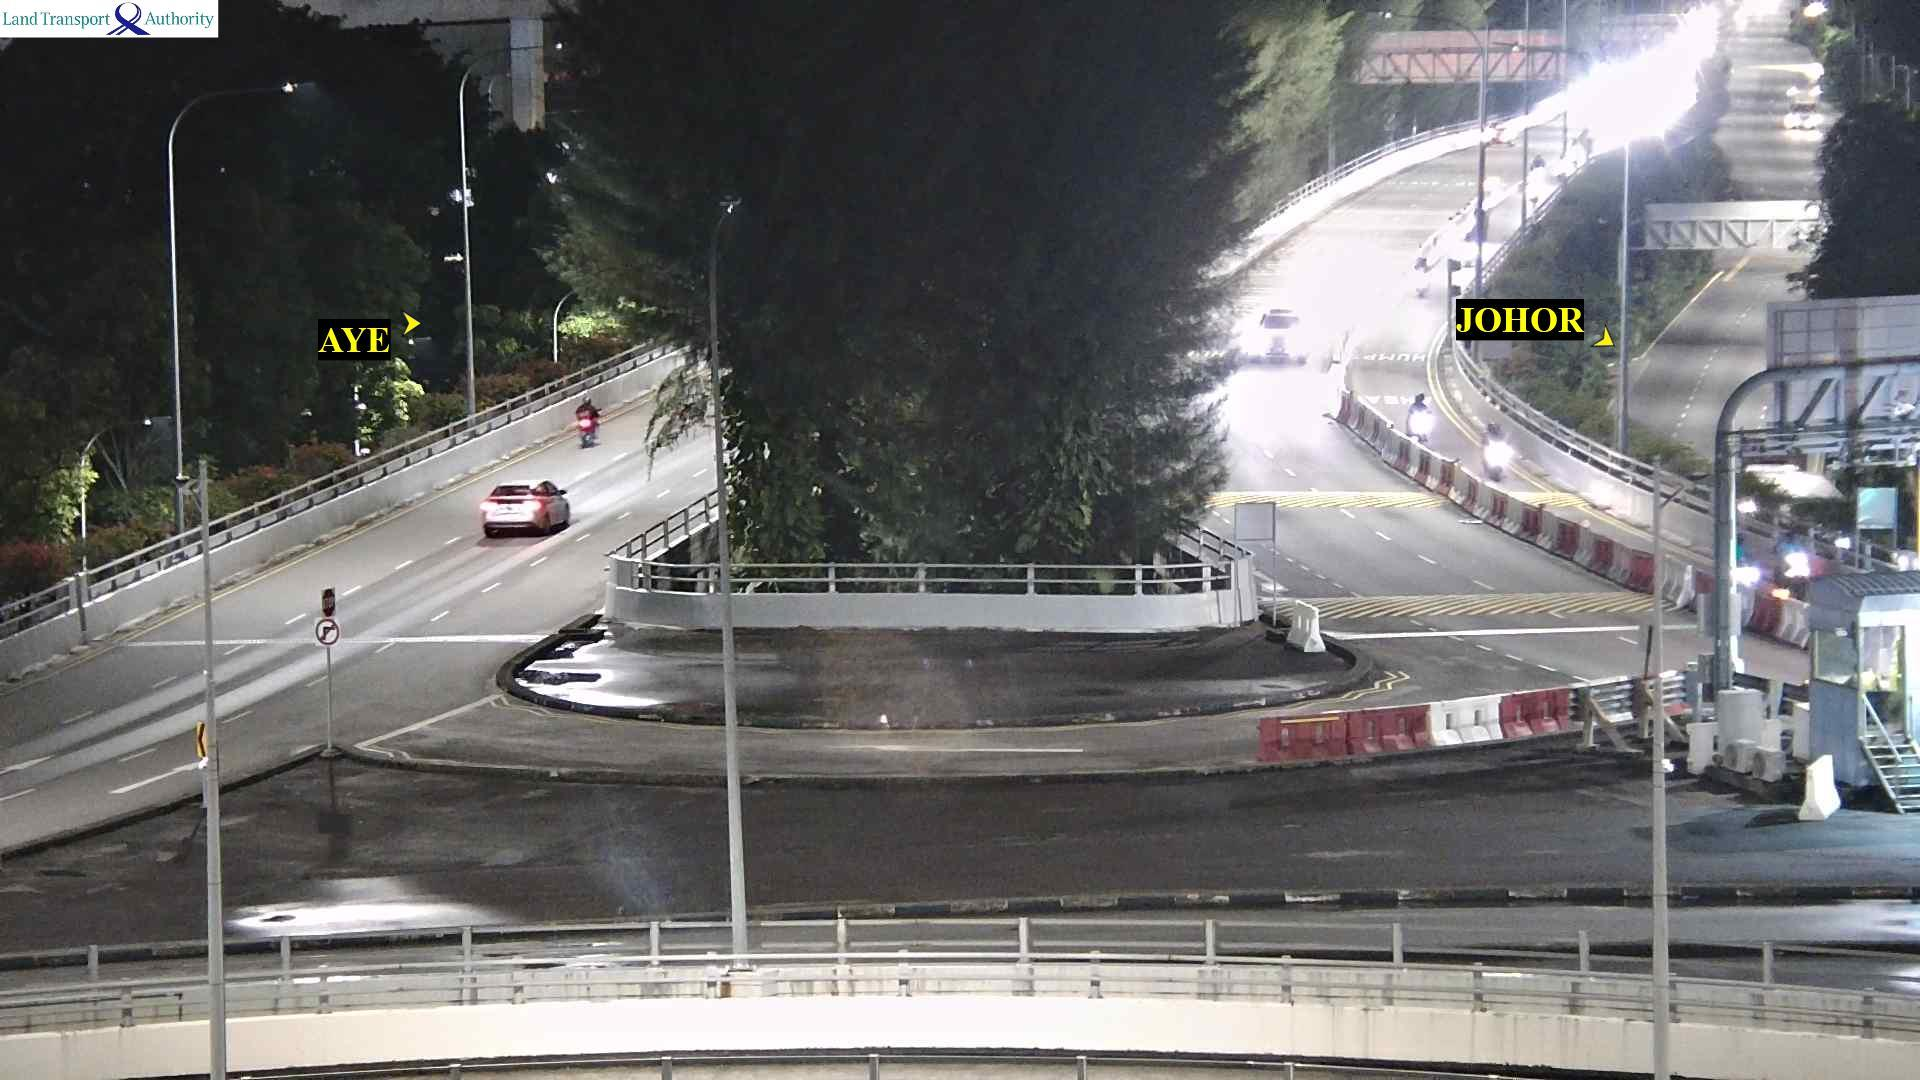vehicle-secondlink-johor: (1257, 307, 1301, 343), (1482, 422, 1509, 480), (1409, 395, 1433, 440)
vehicle-secondlink-singapore: (480, 481, 573, 539), (570, 398, 604, 445)
